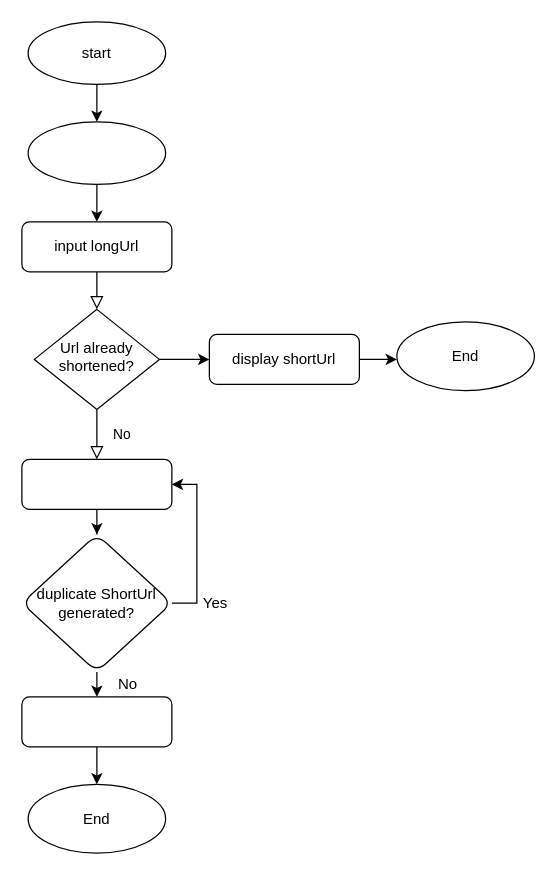
The diagram is 556 pixels wide and 875 high, and some of its shapes have lost their labels. Here are the shapes that lost their labels. From the top down, the centre of each, then its label:
the point at 96,152: User
the point at 96,483: generate shortUrl
the point at 96,721: display generated shortUrl
